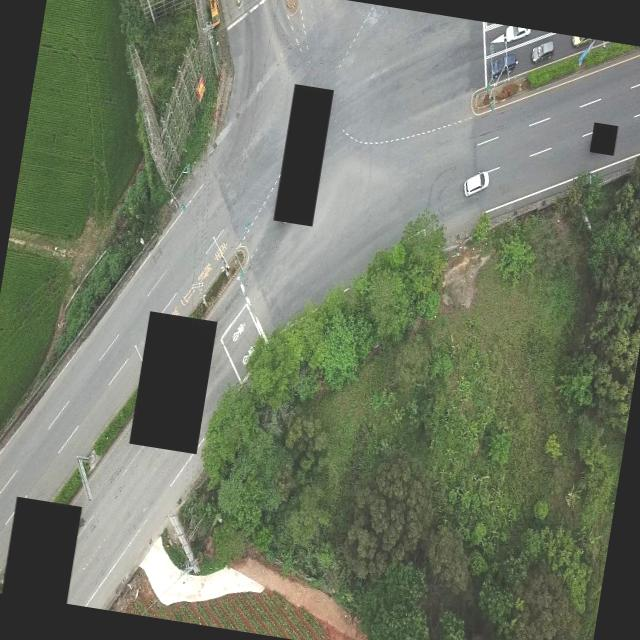car: (489, 49, 519, 82), (462, 168, 490, 200), (530, 37, 556, 66), (504, 26, 530, 46), (570, 36, 592, 49)
